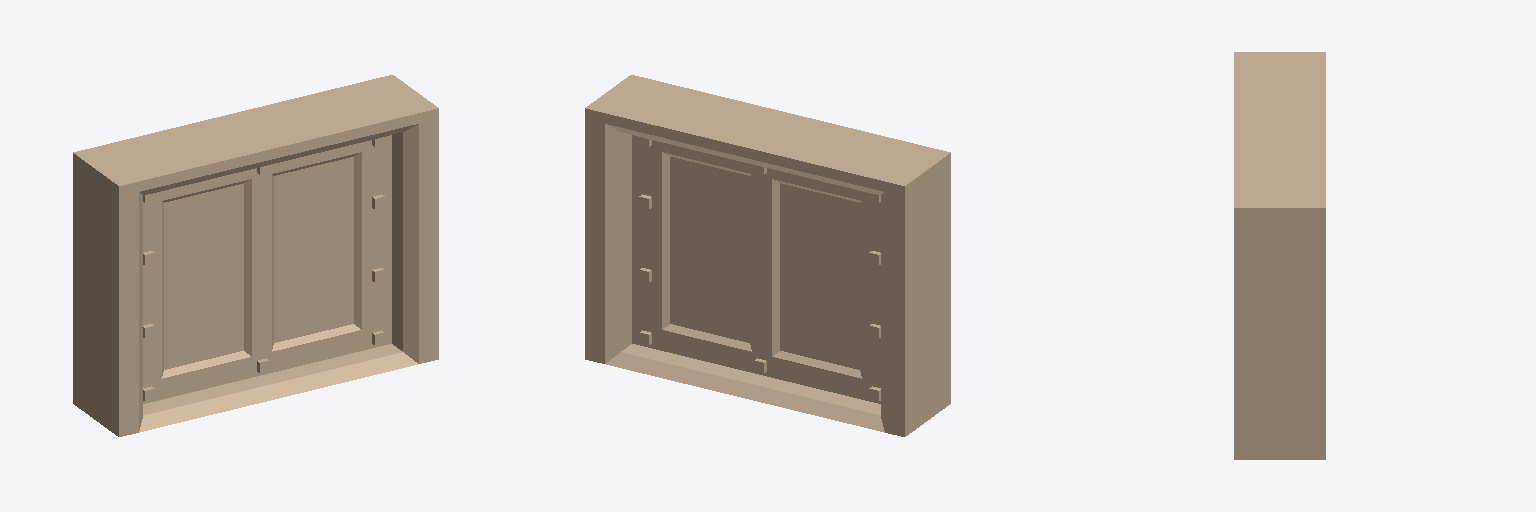
File: fire_door.obj
3 views of the same model, side by side, from view 1: azimuth 30°, elevation 25°; view 2: azimuth 150°, elevation 25°; view 3: azimuth 270°, elevation 25° (orthographic).
Visible parts, largest first — view 1: door, frame; view 2: door, frame; view 3: frame, door.
Boxes of the visible parts, x1,y1,x2,y2 form: door: [110, 92, 401, 403]; frame: [73, 75, 438, 436]; door: [622, 92, 913, 403]; frame: [585, 75, 950, 436]; frame: [1234, 52, 1325, 459]; door: [1268, 62, 1291, 198].
Bounding box in the file's own units: 4 × 3 × 1.